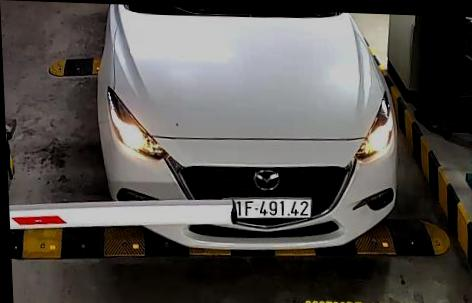License_Plate: (220, 194, 315, 222)
